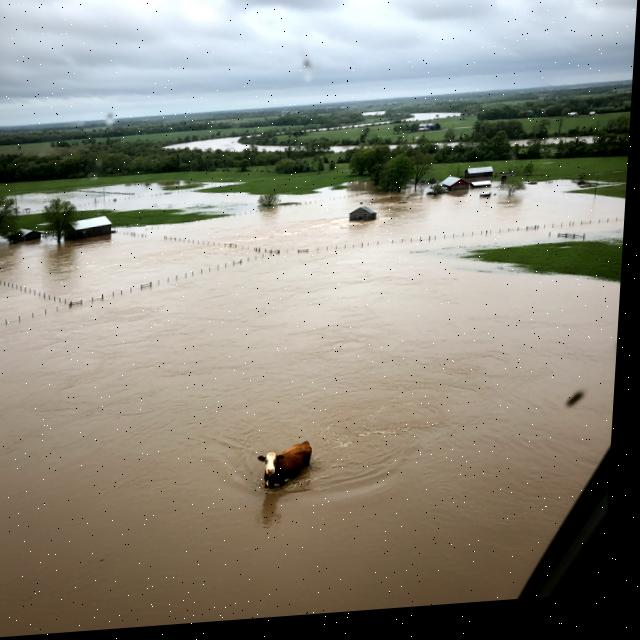cow: (248, 424, 327, 503)
